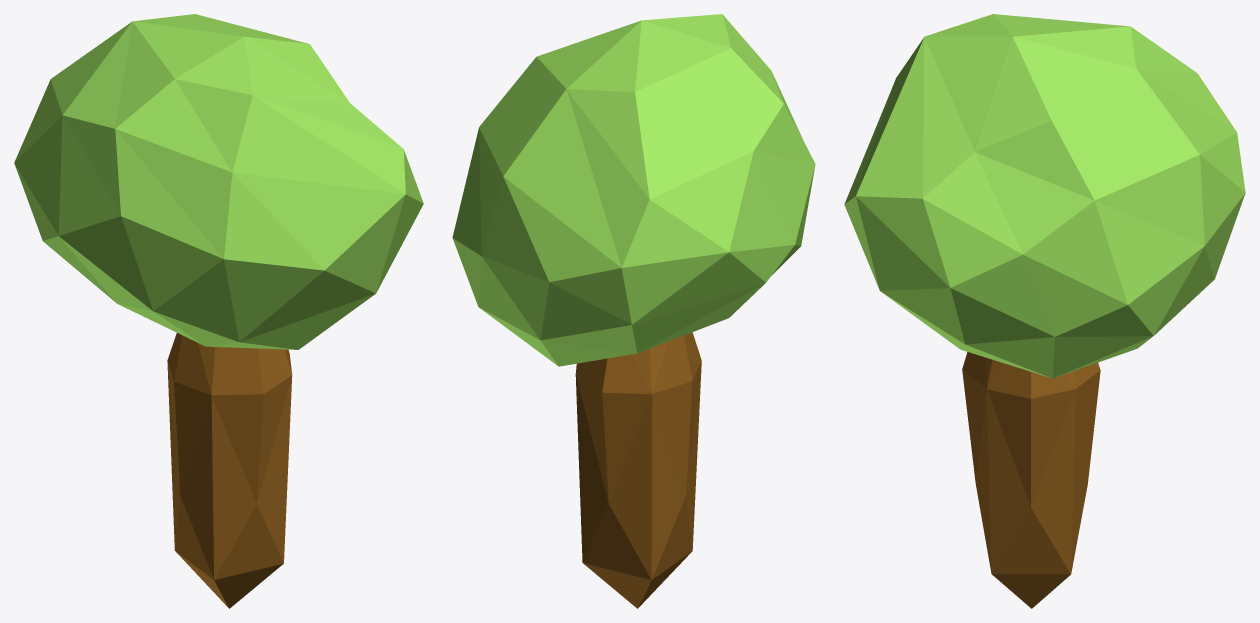
3 views of the same model, side by side, from view 1: azimuth 30°, elevation 25°; view 2: azimuth 150°, elevation 25°; view 3: azimuth 270°, elevation 25° (orthographic).
Visible parts, largest first — view 1: Icosphere_059; view 2: Icosphere_059; view 3: Icosphere_059.
Boxes of the visible parts, <box> form: Icosphere_059: <box>14,14,423,608</box>; Icosphere_059: <box>452,14,815,608</box>; Icosphere_059: <box>844,14,1245,608</box>.
Bounding box in the file's own units: 1.3 × 1.43 × 2.26.
